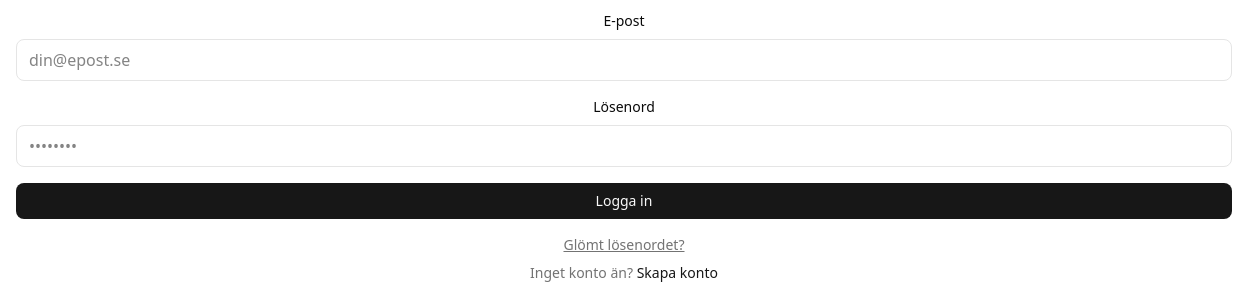
Test: LoginForm › Login Mode › should switch to sign up mode when clicking "Skapa konto"
Click the button "Skapa konto" at x=677, y=273, box [637,263,718,283]
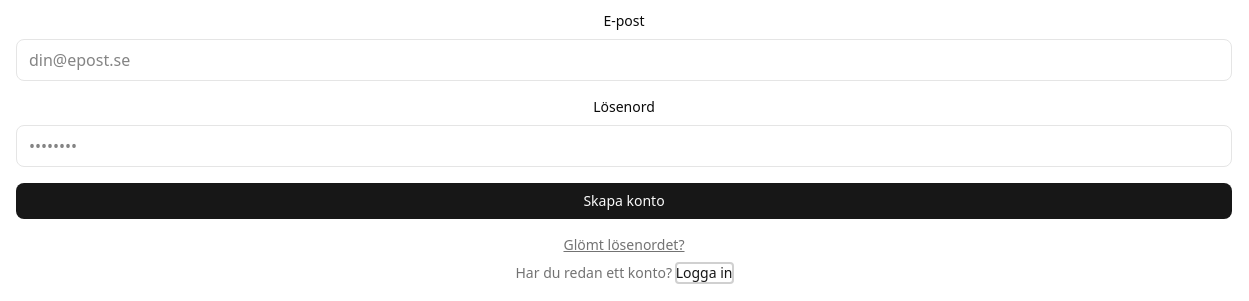
Expected: the button "Skapa konto" is shown, [16,183,1232,219]
